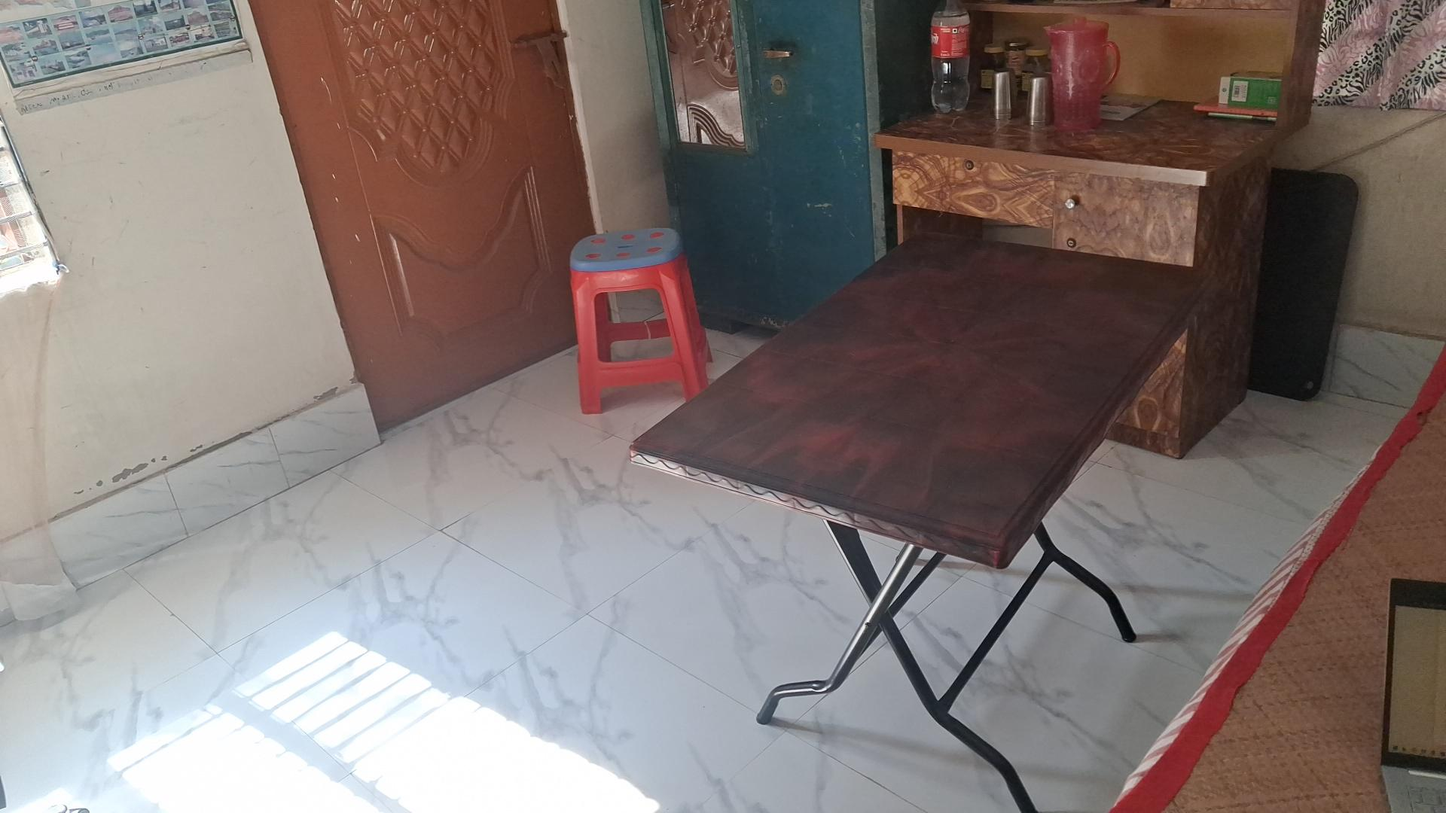Bottle: (930, 3, 970, 113)
Box: (1218, 68, 1280, 110)
Glass: (991, 69, 1019, 123), (1024, 77, 1054, 127)
Jug: (1045, 19, 1119, 129)
Stool: (562, 233, 707, 415)
Table: (631, 233, 1215, 813)
